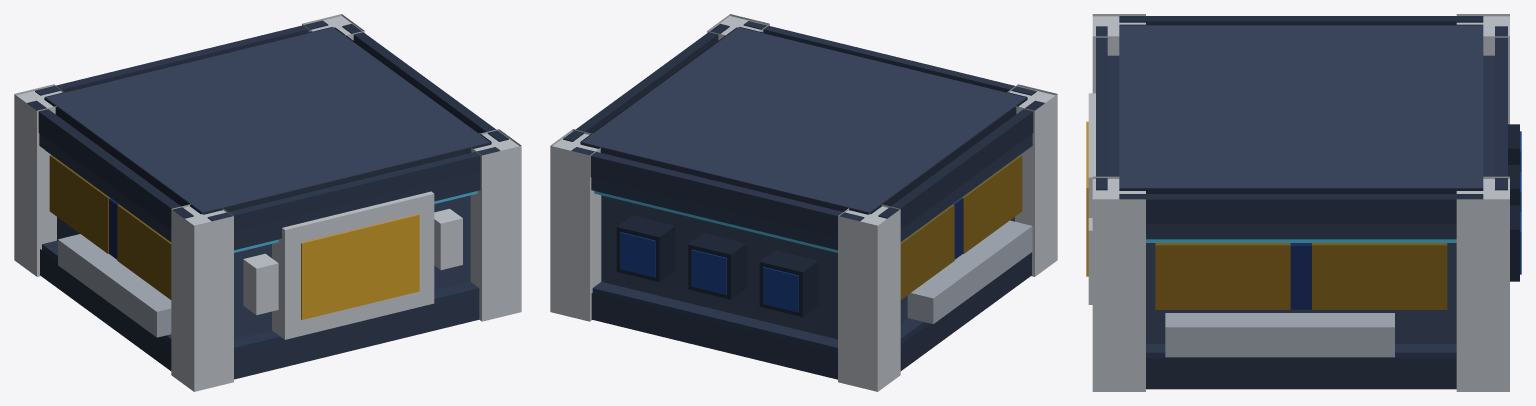
File: SpaceHelmetSil.fbx
3 renders of one model, left to right at view 1: azimuth 30°, elevation 25°; view 2: azimuth 150°, elevation 25°; view 3: azimuth 270°, elevation 25°, orthographic. The views are drawn at different scales.
Parts seen in each view (by area): view 1: SH_S_All; view 2: SH_S_All; view 3: SH_S_All.
Part boxes in pixels (x1=…): SH_S_All: x1=14, y1=14, x2=521, y2=391; SH_S_All: x1=550, y1=14, x2=1057, y2=391; SH_S_All: x1=1086, y1=14, x2=1521, y2=391.
Size of the model in its own units: 42.74 by 20 by 40.94.
